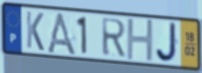1: (75, 16, 89, 56)
A: (45, 10, 79, 57)
H: (126, 18, 155, 63)
J: (154, 21, 180, 64)
K: (25, 10, 46, 53)
R: (100, 17, 128, 59)
